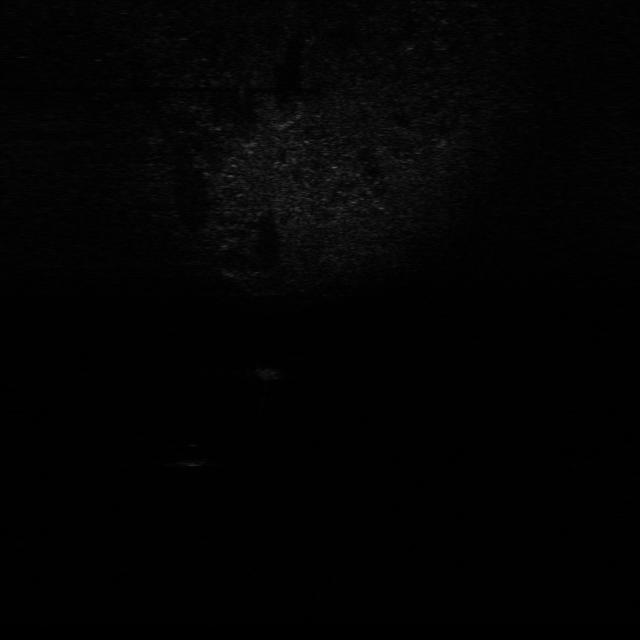ball: (177, 438, 212, 468)
cube: (254, 361, 287, 386)
